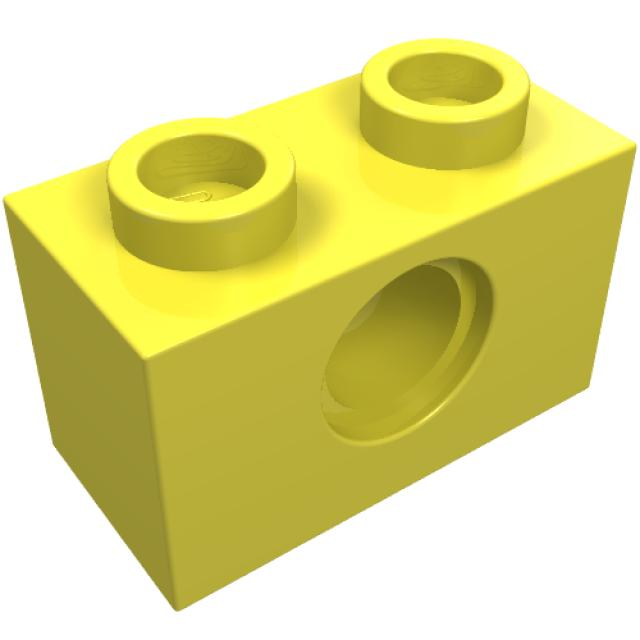Yellow_Small: (3, 38, 639, 614)
